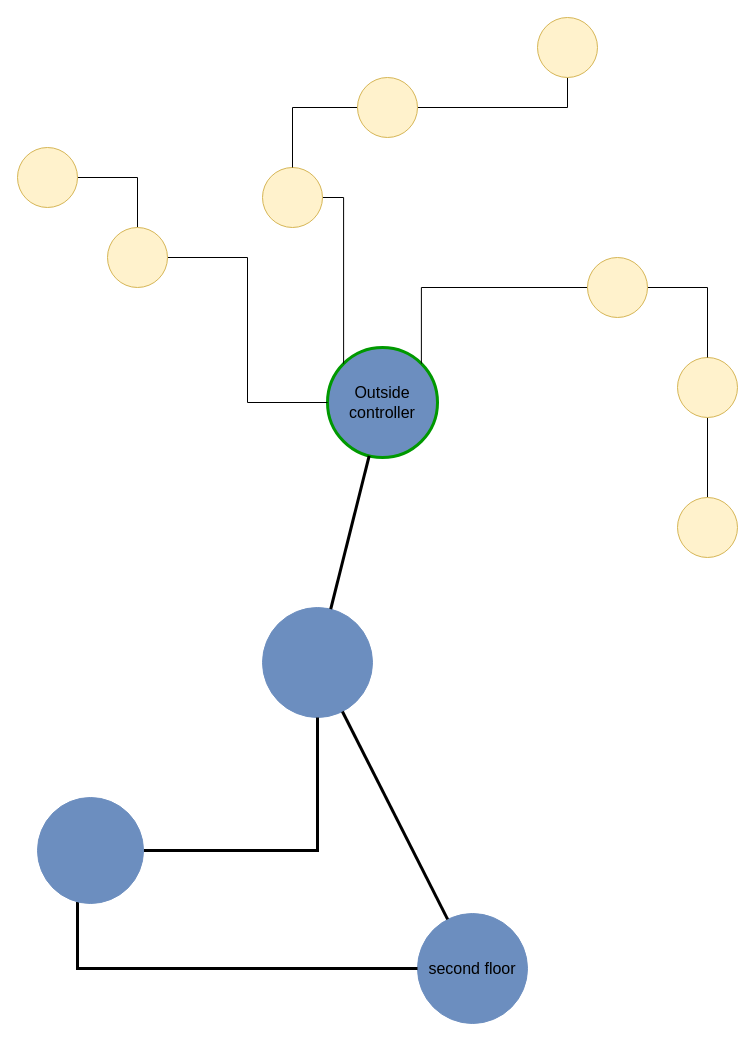
The diagram is 755 pixels wide and 1041 high, and some of its shapes have lost their labels. Here are the shapes that lost their labels. From the top down, the centre of each, then its label:
point 317,662: 1st floor first half
point 90,850: 1st floor second half
